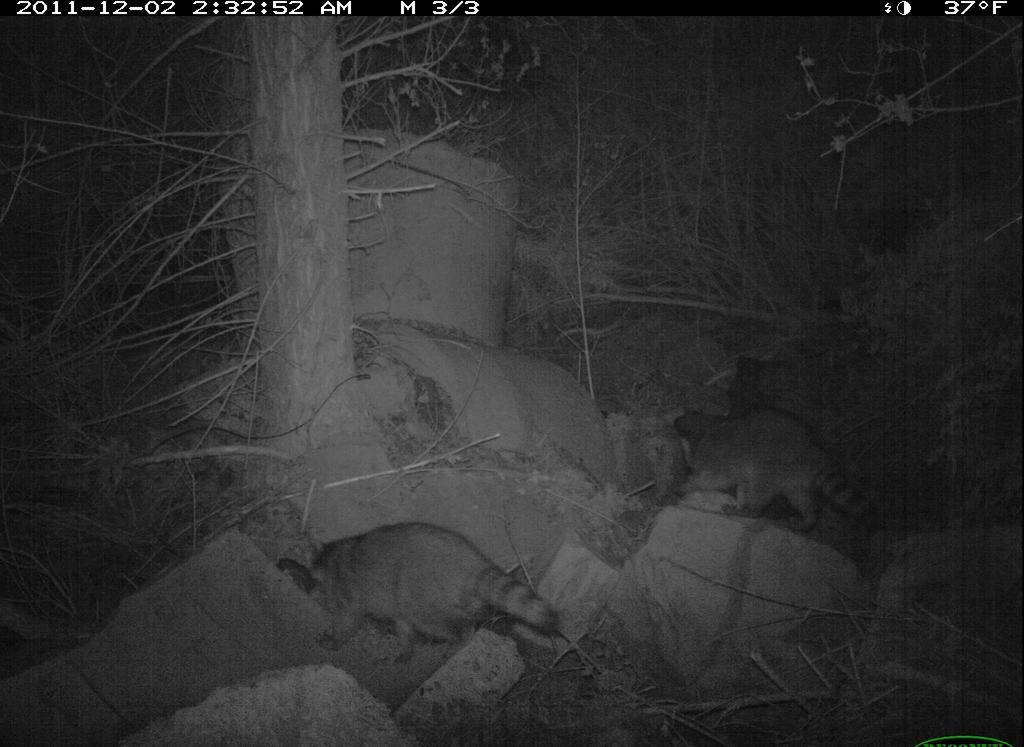raccoon: (276, 523, 575, 658), (667, 408, 891, 551)
